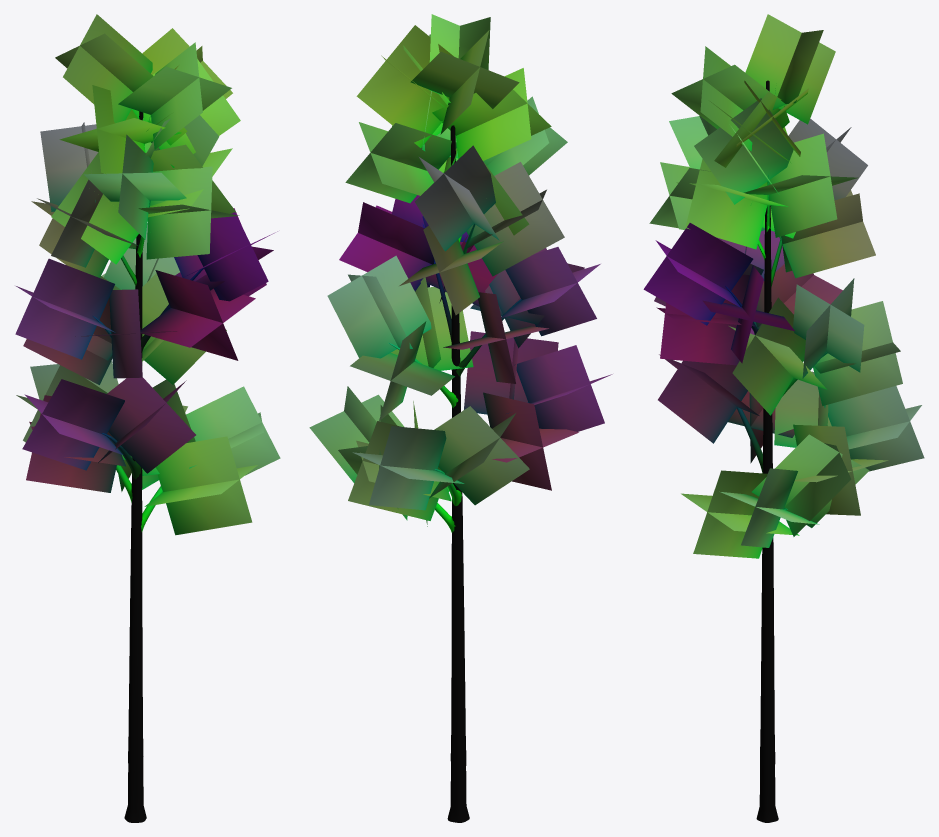
File: URP_P5_Tree_2_LOD_0.fbx
3 renders of one model, left to right at view 1: azimuth 30°, elevation 25°; view 2: azimuth 150°, elevation 25°; view 3: azimuth 270°, elevation 25°, orthographic.
Visible parts, largest first — view 1: Tree_2_LOD_0; view 2: Tree_2_LOD_0; view 3: Tree_2_LOD_0.
Part boxes in pixels (x1,y1,x2,y2): Tree_2_LOD_0: (15, 14, 280, 822); Tree_2_LOD_0: (309, 14, 612, 822); Tree_2_LOD_0: (643, 14, 924, 822).
Size of the model in its own units: 293 by 832 by 269.
